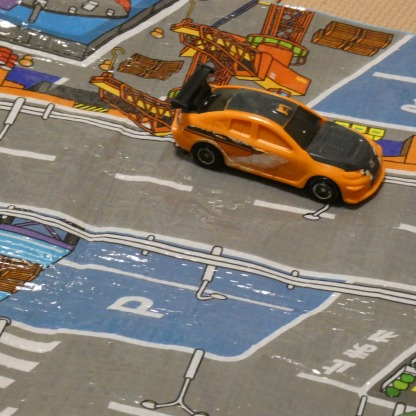car: (174, 62, 387, 211)
